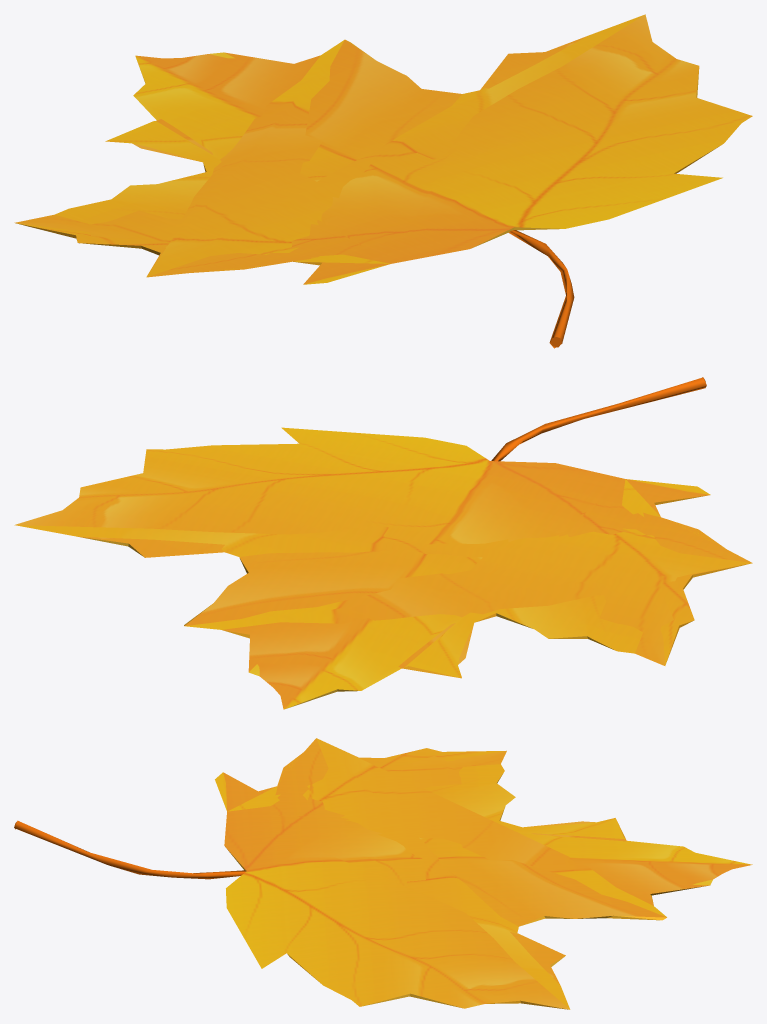
The model's file is list2.fbx.
3 views of the same model, one above another, from view 1: azimuth 30°, elevation 25°; view 2: azimuth 150°, elevation 25°; view 3: azimuth 270°, elevation 25° (orthographic). The views are drawn at different scales.
Visible parts, largest first — view 1: list2; view 2: list2; view 3: list2.
Boxes of the visible parts, x1,y1,x2,y2 form: list2: (14,14,752,348); list2: (14,377,752,709); list2: (14,738,752,1009).
Size of the model in its own units: 19.99 by 1.27 by 22.79.
Materials: 2 (1 with a texture image).
